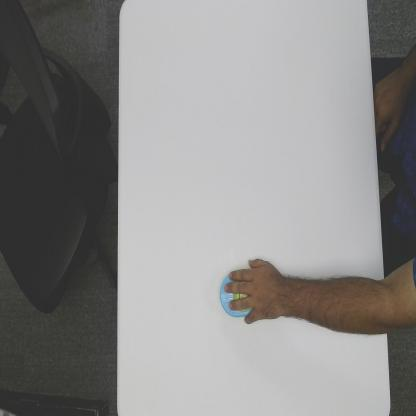Arm: (284, 274, 386, 338)
Boat: (219, 267, 259, 318)
Hand: (224, 258, 284, 326)
